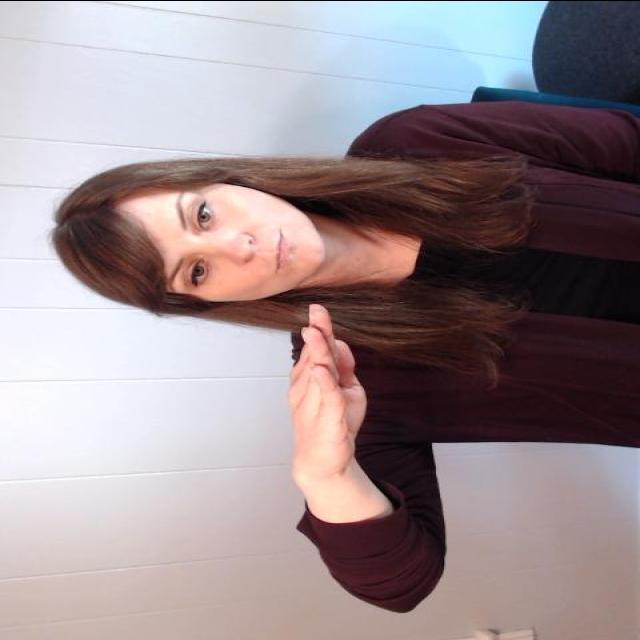Paper: (280, 299, 370, 483)
